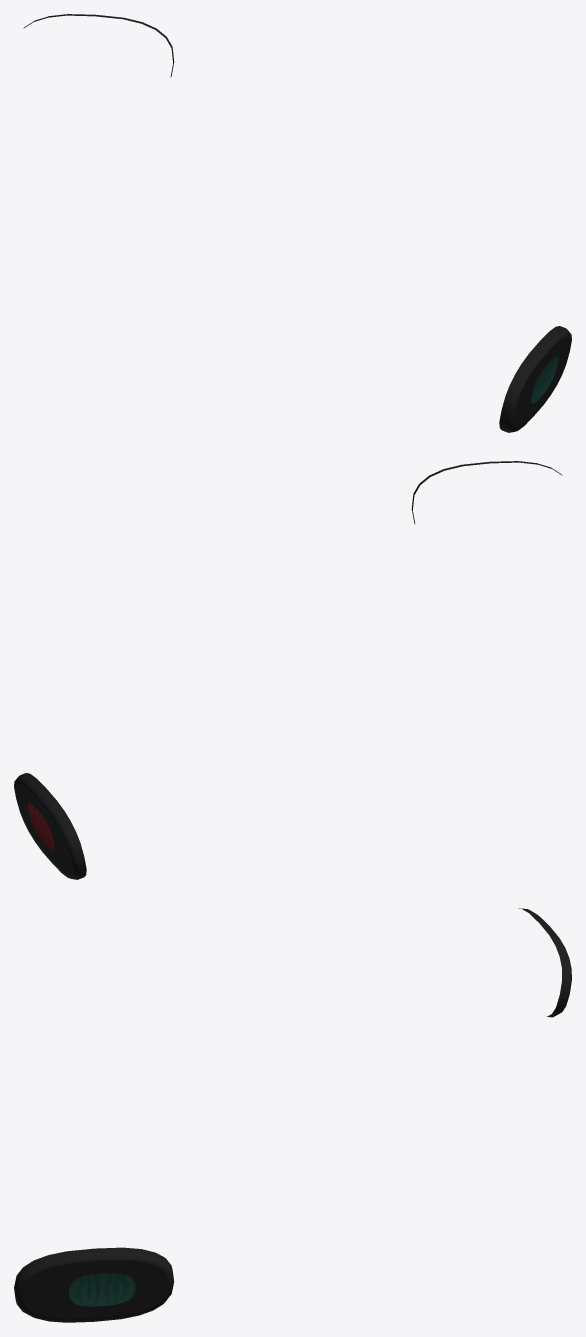
File: nav-lights-400.glb
3 views of the same model, one above another, from view 1: azimuth 30°, elevation 25°; view 2: azimuth 150°, elevation 25°; view 3: azimuth 330°, elevation 25° (orthographic).
Parts seen in each view (by area): view 1: xs_el3_navlight_stbd_400; view 2: xs_el3_navlight_port_400; view 3: xs_el3_navlight_stbd_400, xs_el3_navlight_port_400.
Part boxes in pixels (left/top/right/bottom): xs_el3_navlight_stbd_400: left=499, top=326, right=571, bottom=432; xs_el3_navlight_port_400: left=14, top=773, right=86, bottom=879; xs_el3_navlight_stbd_400: left=14, top=1247, right=174, bottom=1322; xs_el3_navlight_port_400: left=518, top=908, right=571, bottom=1017.
Bounding box in the file's own units: 0.0768 × 0.0498 × 0.5793.
